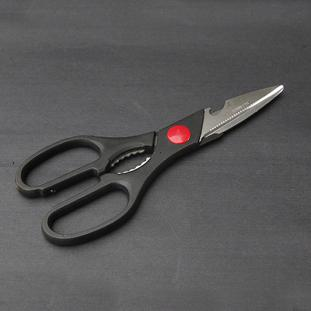scissor: (33, 61, 308, 244)
